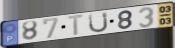3: (138, 5, 157, 30)
7: (42, 16, 62, 40)
8: (21, 21, 39, 42), (117, 9, 134, 30)
T: (66, 13, 87, 37)
U: (88, 11, 109, 34)
